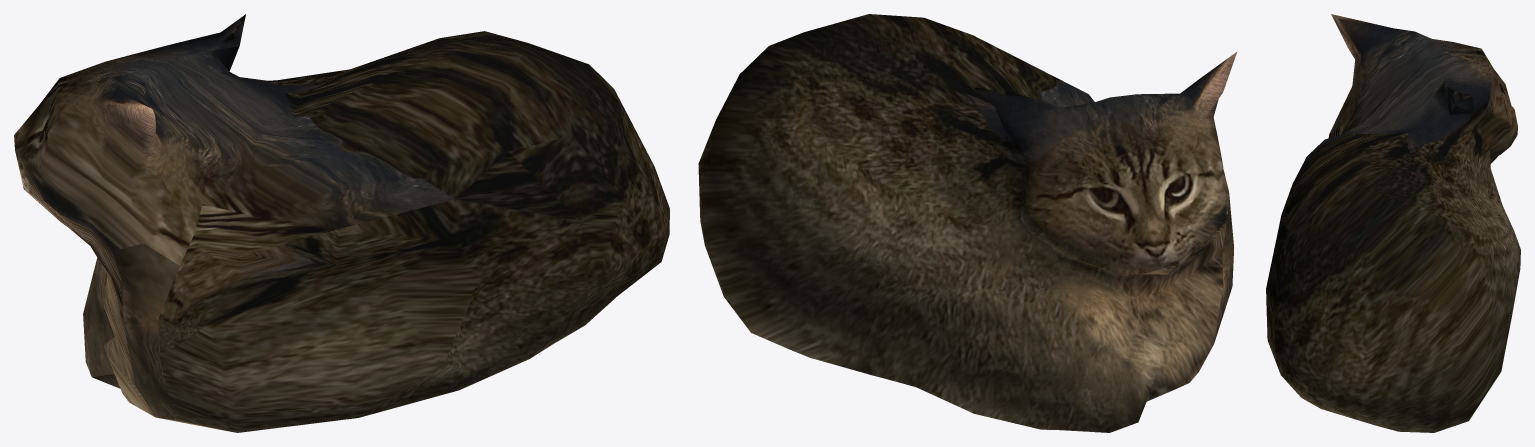
3 views of the same model, side by side, from view 1: azimuth 30°, elevation 25°; view 2: azimuth 150°, elevation 25°; view 3: azimuth 270°, elevation 25° (orthographic). The views are drawn at different scales.
Parts seen in each view (by area): view 1: mango; view 2: mango; view 3: mango.
Part boxes in pixels (<box>): mango: <box>14,14,669,432</box>; mango: <box>698,14,1236,432</box>; mango: <box>1266,14,1520,432</box>.
Size of the model in its own units: 8.8 by 5.19 by 4.46.
Materials: 2 (1 with a texture image).
